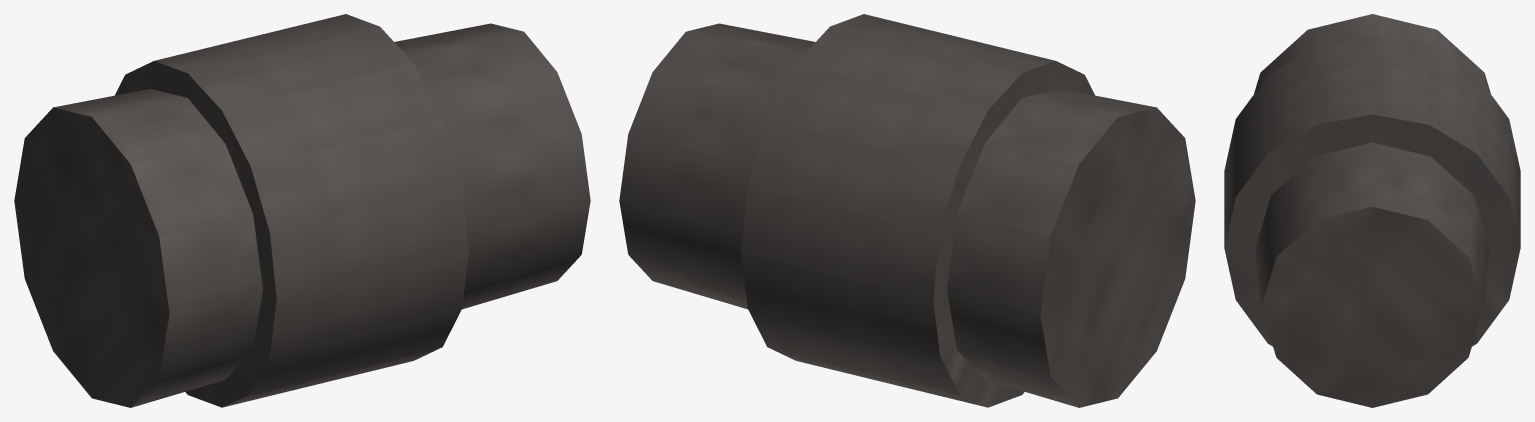
The model's file is tightjaw_choke.glb.
3 views of the same model, side by side, from view 1: azimuth 30°, elevation 25°; view 2: azimuth 150°, elevation 25°; view 3: azimuth 270°, elevation 25° (orthographic). The views are drawn at different scales.
Parts seen in each view (by area): view 1: tightjaw_choke; view 2: tightjaw_choke; view 3: tightjaw_choke.
Boxes of the visible parts, x1=… form: tightjaw_choke: x1=14, y1=14, x2=590, y2=407; tightjaw_choke: x1=619, y1=14, x2=1195, y2=407; tightjaw_choke: x1=1224, y1=14, x2=1520, y2=407.
Bounding box in the file's own units: 0.045 × 0.032 × 0.032.
Materials: 1 (1 with a texture image).
